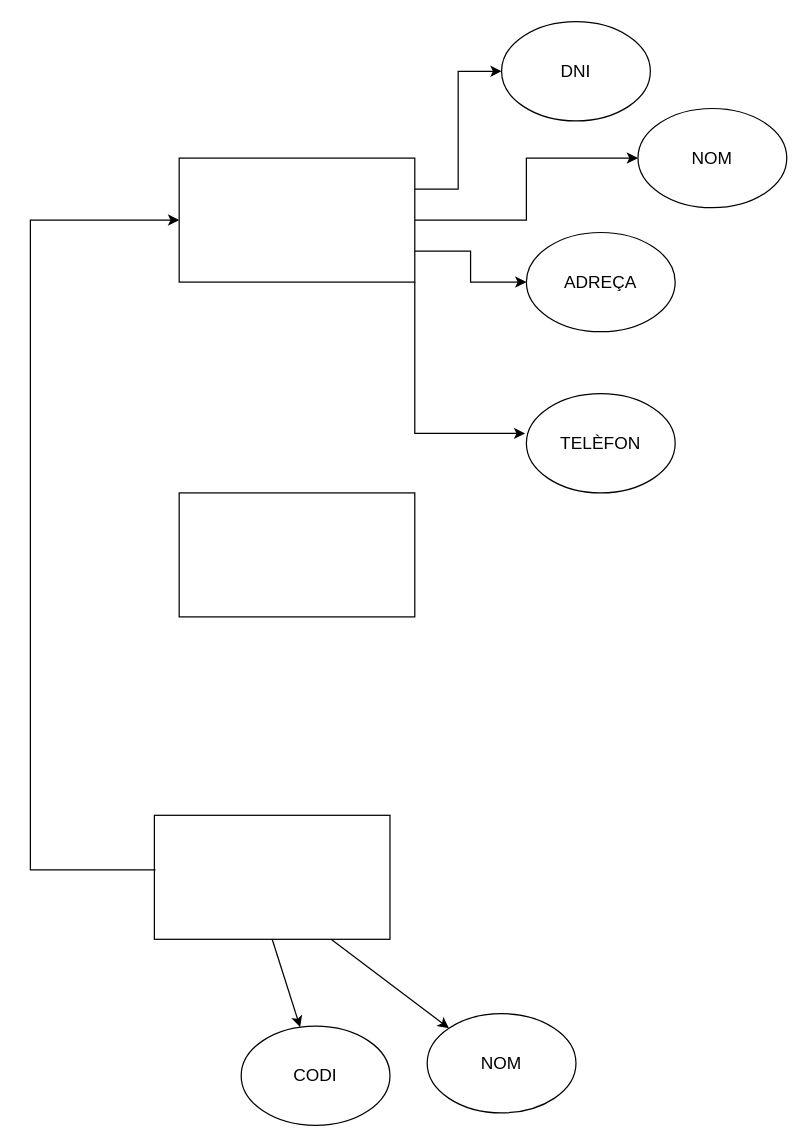
Image size: 808x1147. Some labels were removed from this diagram. Here are the shapes that lost their labels. From the top down, the centre of each, then its label:
(296,219): PROFESSOR
(296,554): ALUMNE
(271,876): MÒDUL
